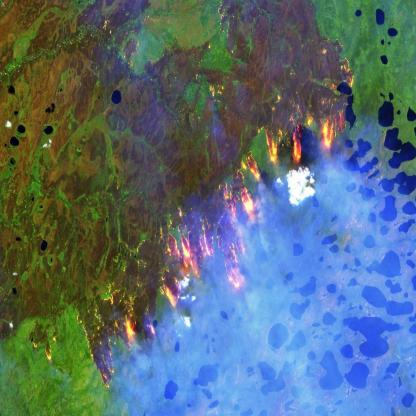fire: (0, 0, 362, 397)
